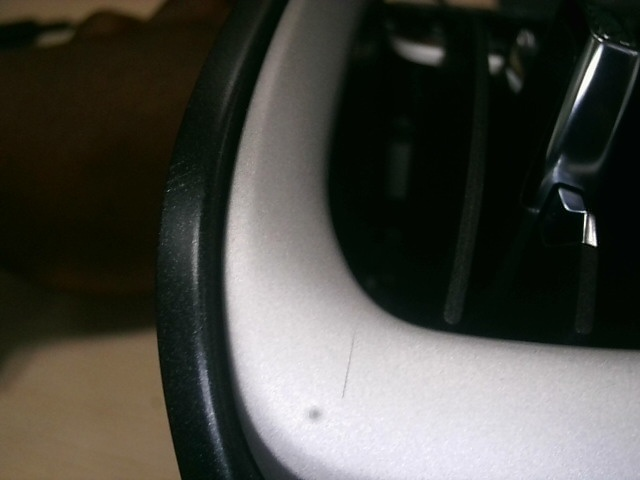NG: (333, 329, 373, 405), (165, 158, 208, 217)
